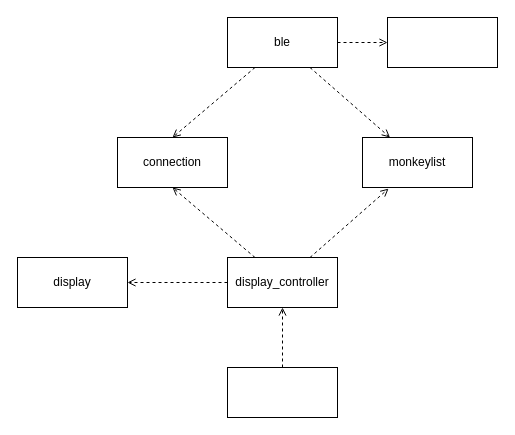
Image size: 515x435. Some labels were removed from this diagram. The shapes that lost their labels are listed below. From the top down, each one's centre as x and y in pixels, then its label:
(x=442, y=42): snes_client
(x=282, y=392): button_manager
